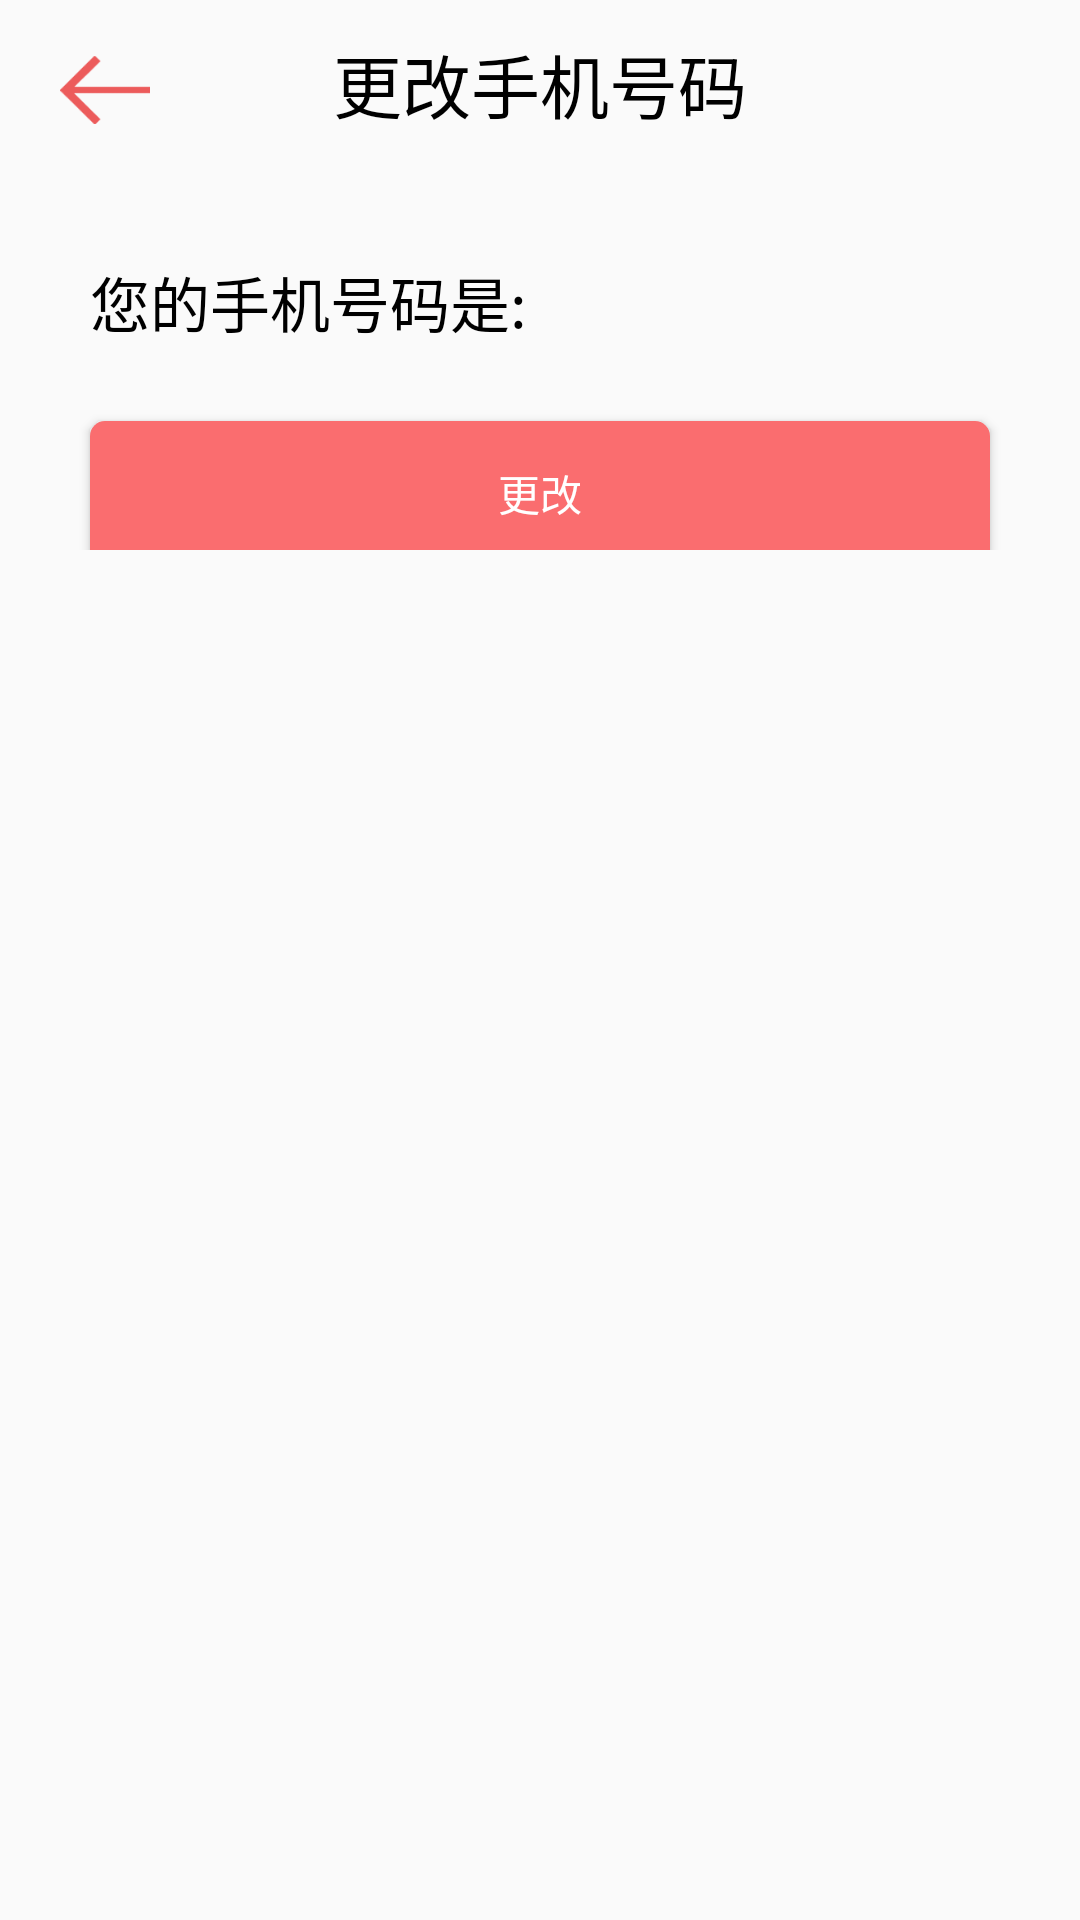

Screen size 1080 x 1920. Icon name, then its center in pixels as (x,y):
return: (105,90)
